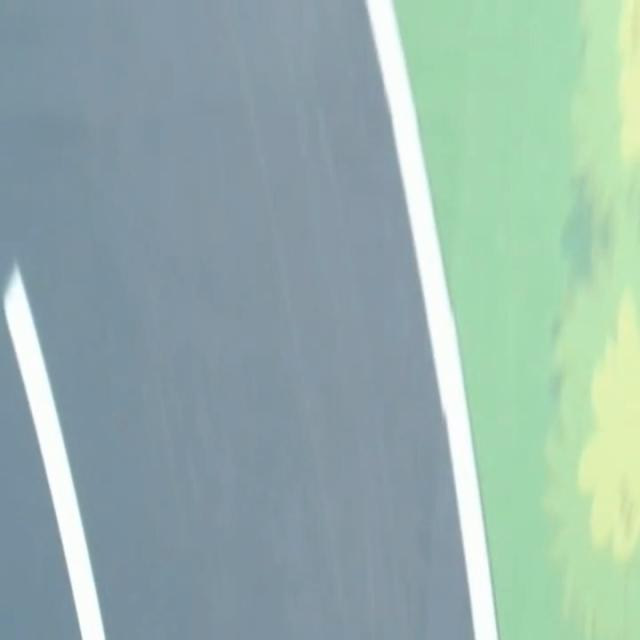center: (4, 264, 105, 639)
right: (365, 0, 497, 639)
